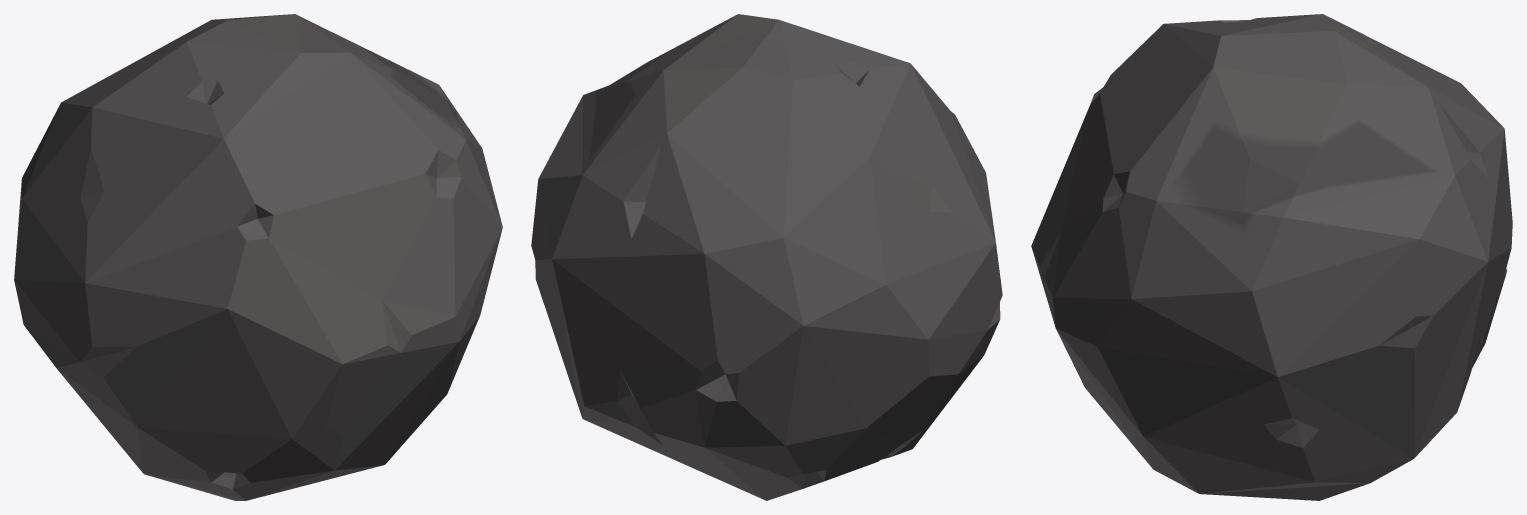
Rendered from bog_boulder.gltf.
The picture shows the model from 3 angles, left to right: view 1: azimuth 30°, elevation 25°; view 2: azimuth 150°, elevation 25°; view 3: azimuth 270°, elevation 25°; orthographic projection. The views are drawn at different scales.
Visible parts, largest first — view 1: bog_boulder; view 2: bog_boulder; view 3: bog_boulder.
Part boxes in pixels (<box>): bog_boulder: <box>14,14,502,500</box>; bog_boulder: <box>531,14,1002,500</box>; bog_boulder: <box>1031,14,1512,500</box>.
Size of the model in its own units: 1.85 by 1.82 by 1.8.
Materials: 1 (1 with a texture image).
